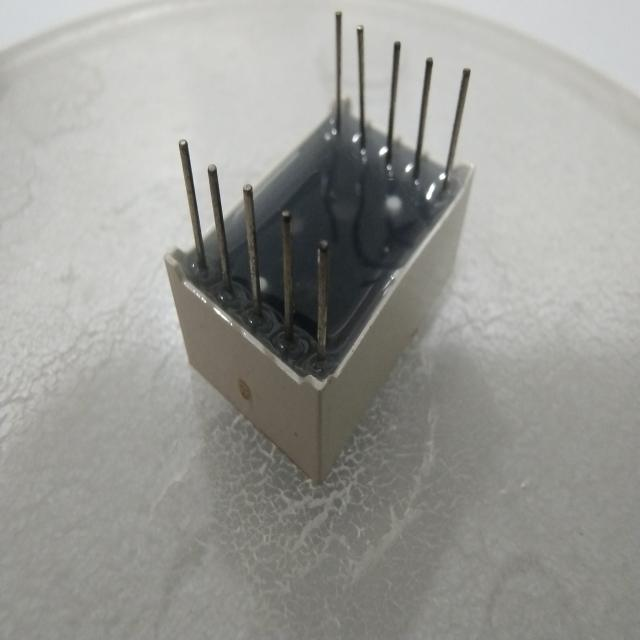7_segments: (160, 5, 488, 503)
